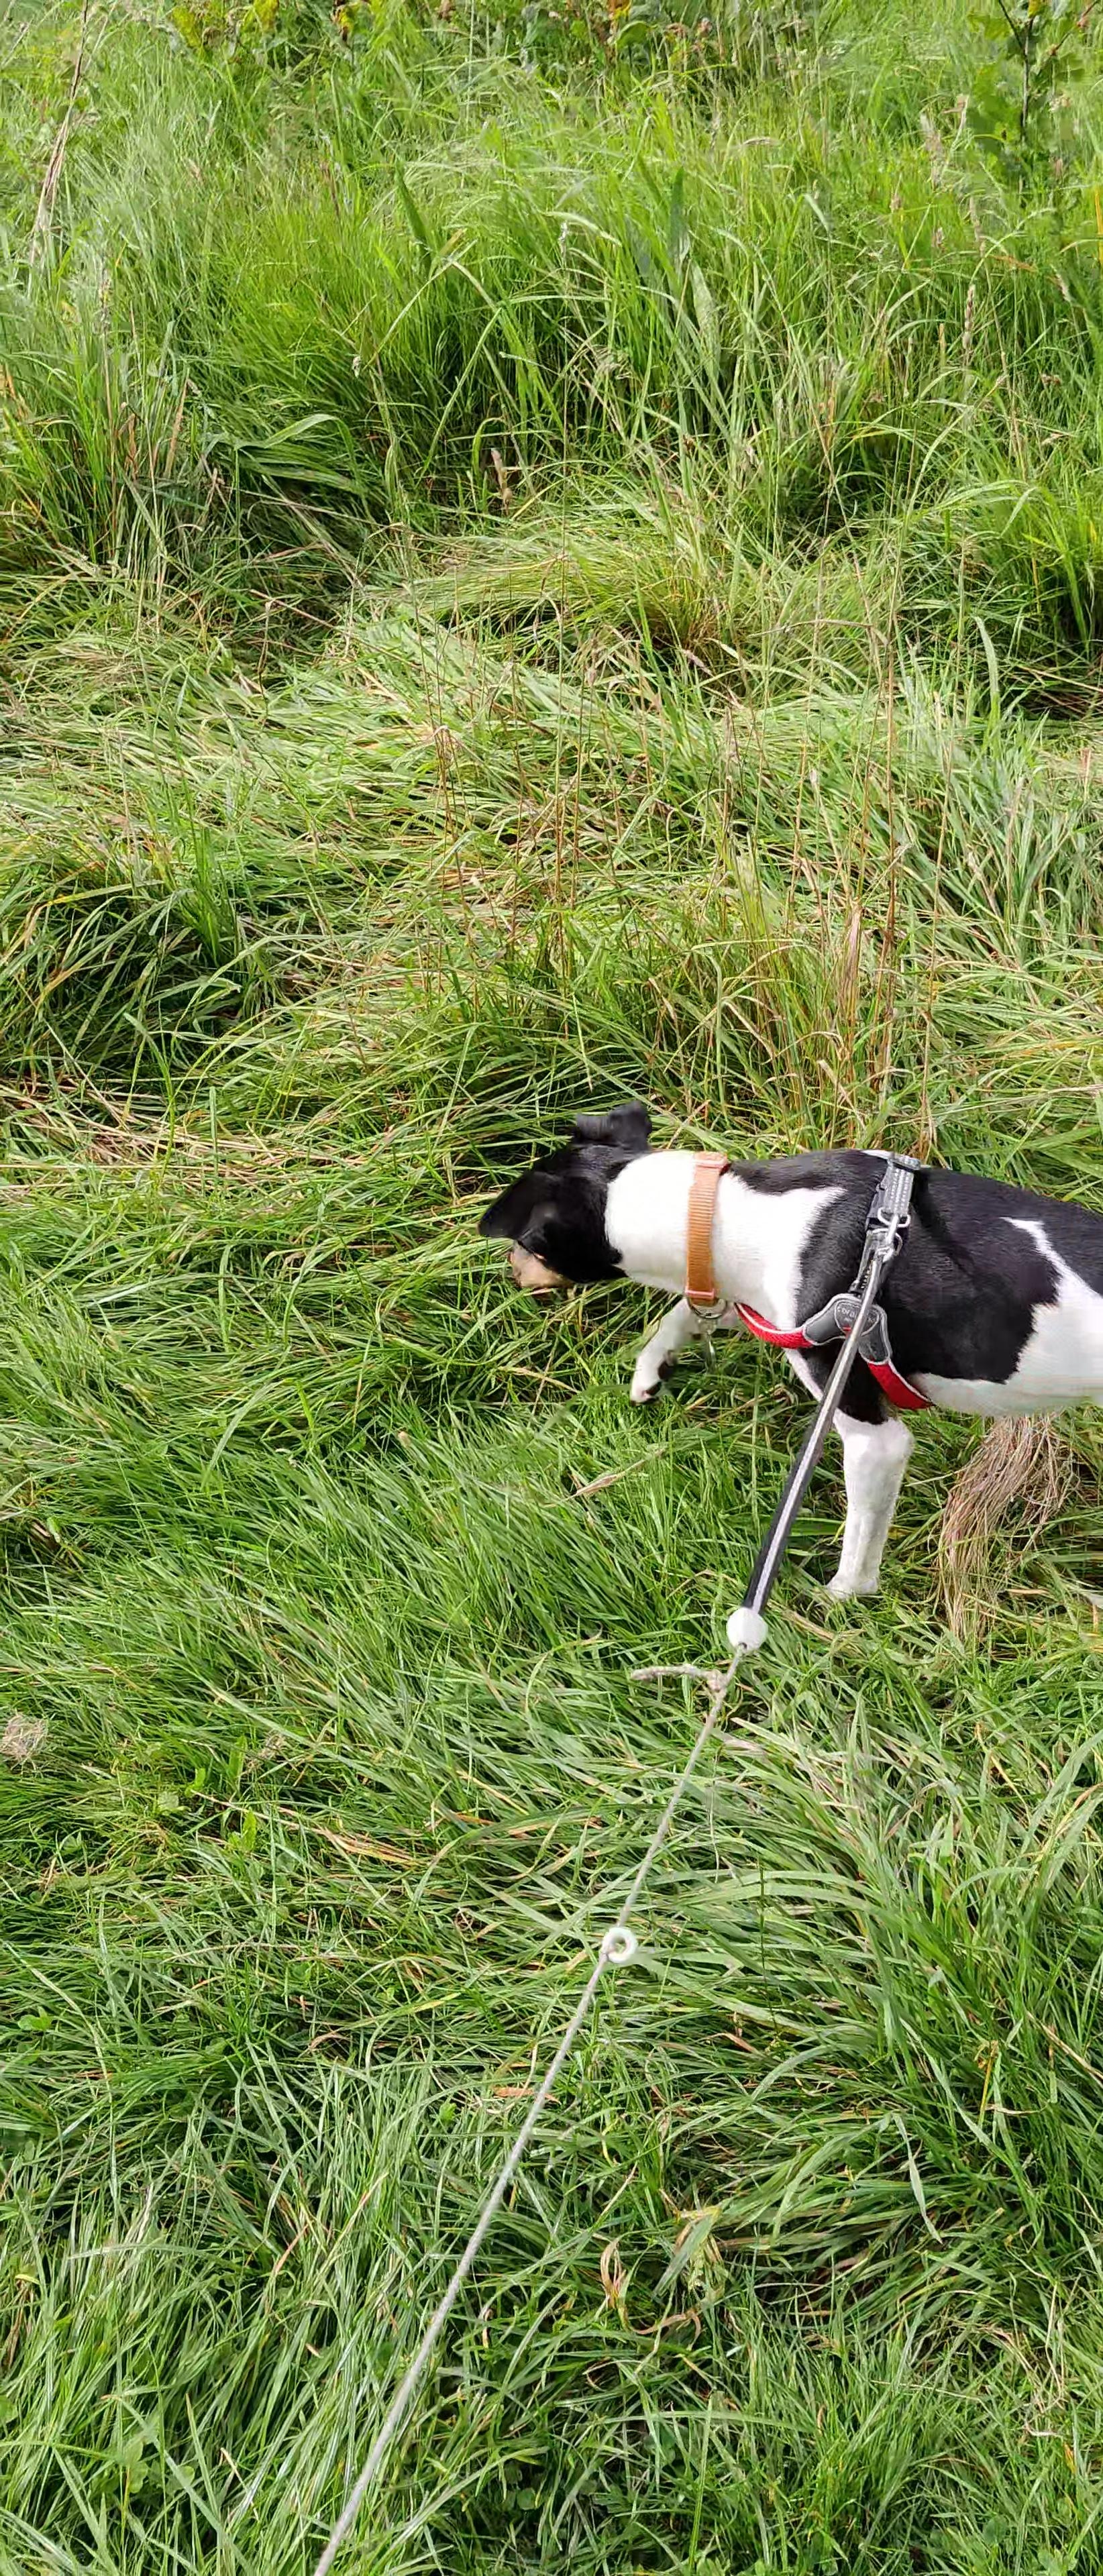Dog: (472, 1094, 1103, 1626)
